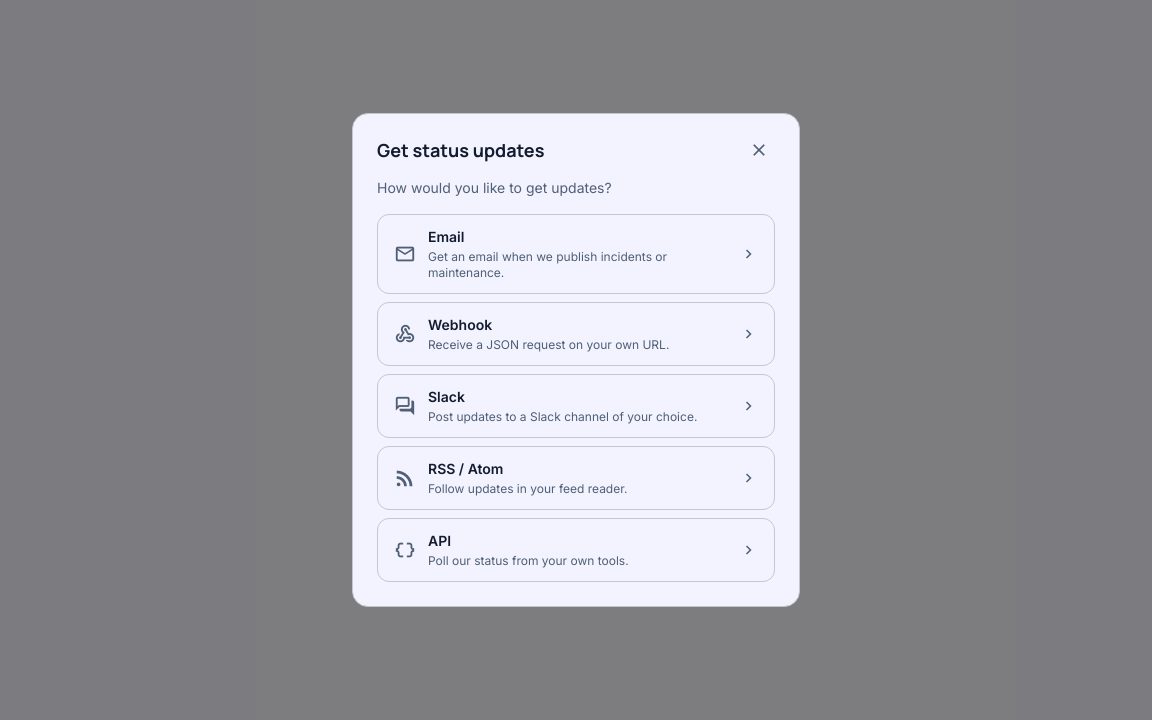
it: SubscribeDialog › always starts by asking which method to use, and can go back to the list
Expected: the text "How would you like to get updates?" is shown, [377,179,612,196]
Expected: the button "Email Get an email when we publish incidents or maintenance." is shown, [377,214,775,294]
Click the button "RSS / Atom Follow updates in your feed reader.": (576,478) [377,446,775,510]
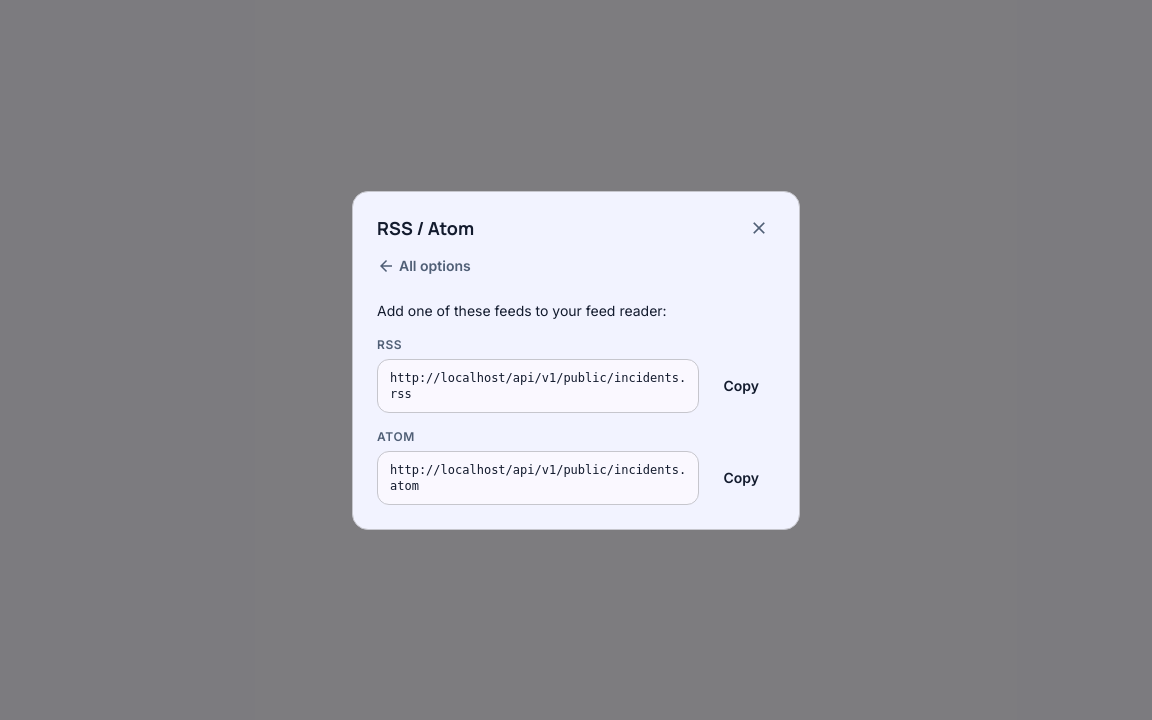
Click the button "All options": (424,266) [369,252,479,280]
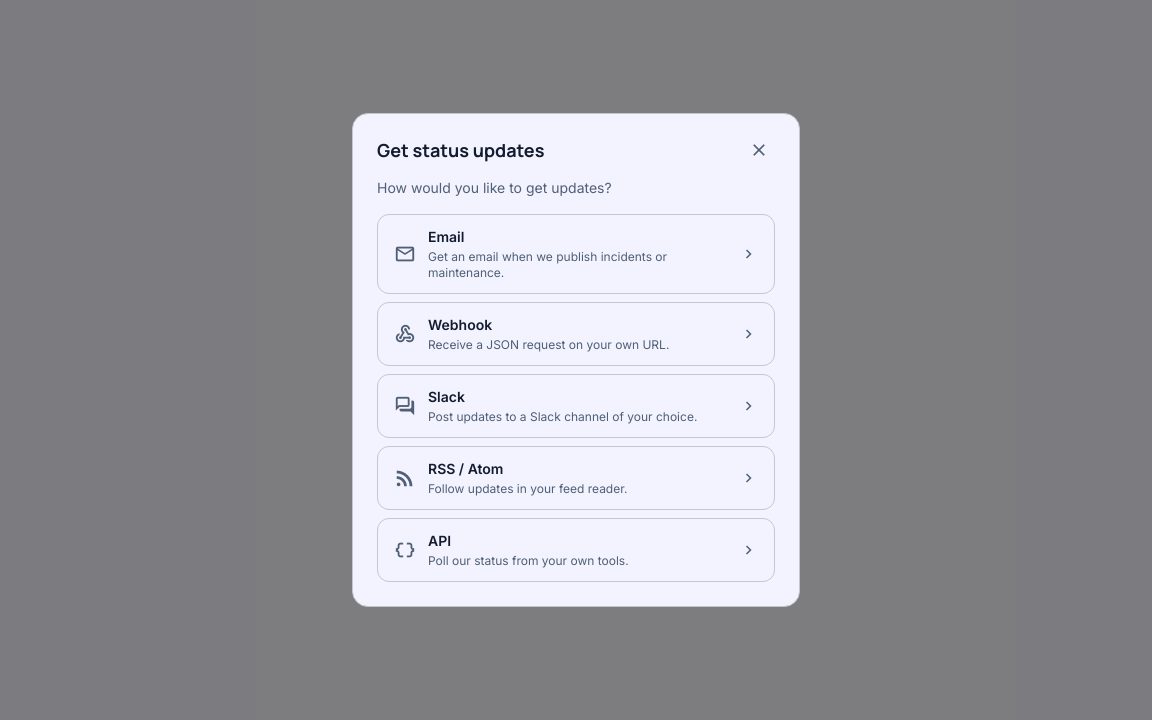
Now the text "How would you like to get updates?" is shown, box [377,179,612,196]
